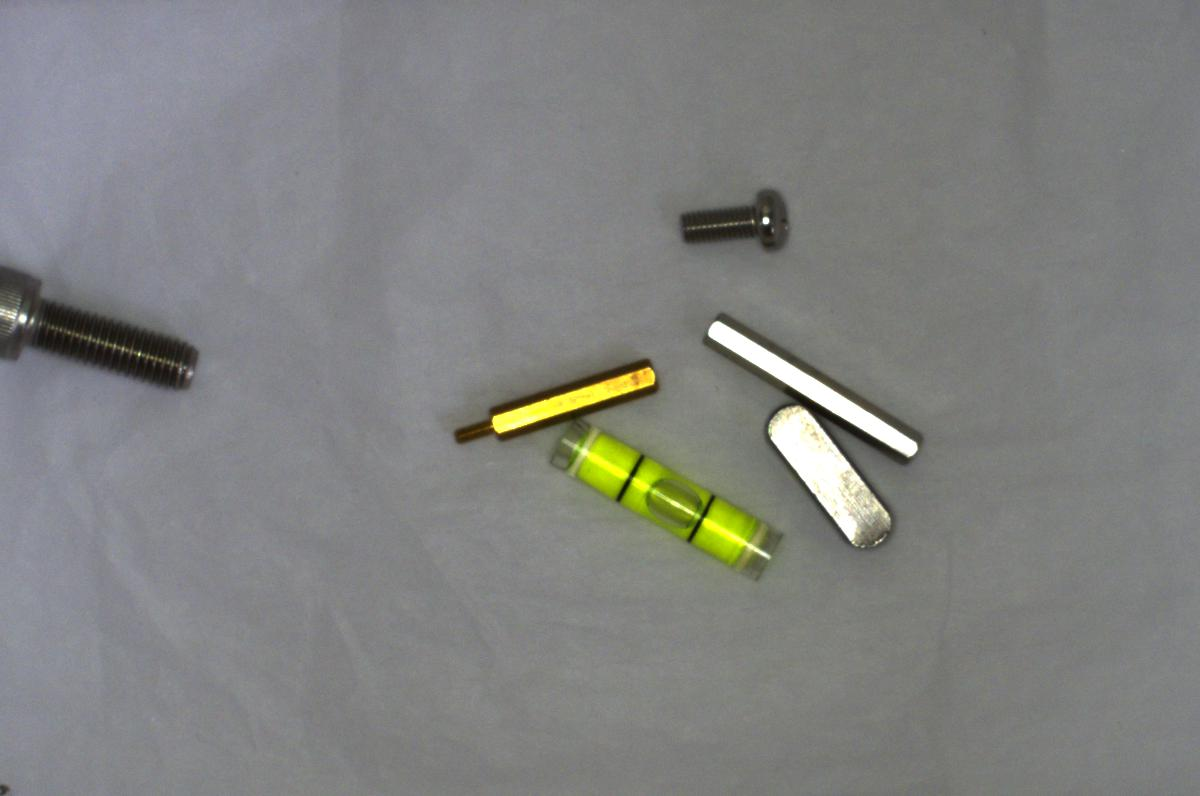Double hexagonal column: (691, 308, 927, 467)
Hexagon pillar: (441, 358, 667, 447)
Hexagon screw: (1, 258, 210, 394)
Horizontal bubble: (535, 418, 786, 580)
Keybar: (764, 401, 901, 552)
Round head screw: (668, 179, 802, 261)
